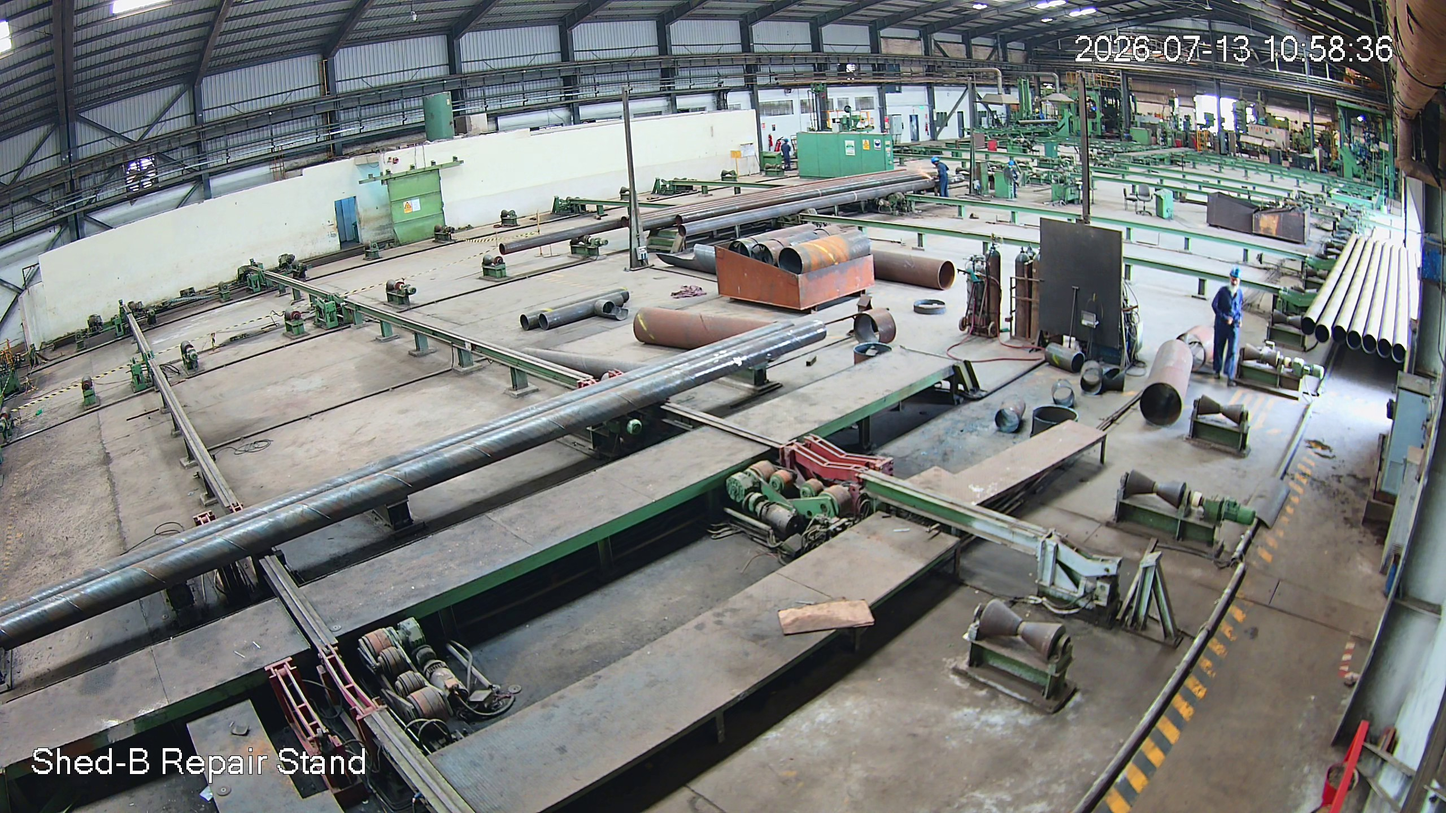Helmet: (1227, 267, 1243, 288)
Person: (1208, 268, 1244, 390)
